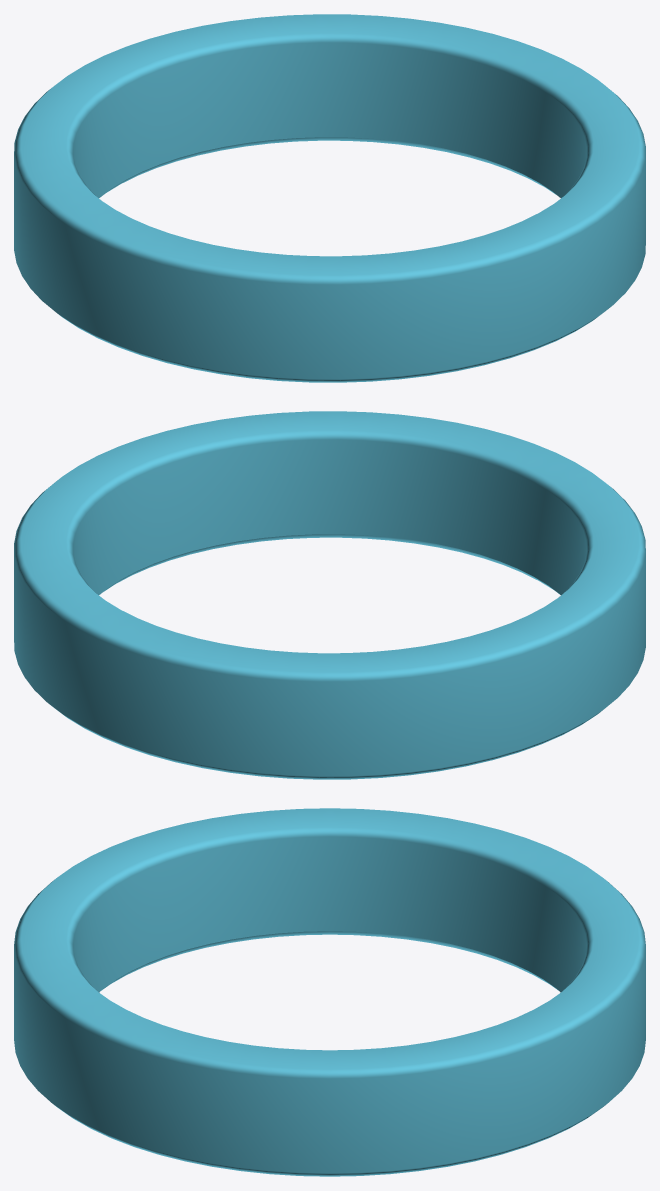
3 renders of one model, top to bottom at view 1: azimuth 30°, elevation 25°; view 2: azimuth 150°, elevation 25°; view 3: azimuth 270°, elevation 25°, orthographic.
Parts seen in each view (by area): view 1: seal_body; view 2: seal_body; view 3: seal_body.
Boxes of the visible parts, x1,y1,x2,y2 form: seal_body: (14, 14, 645, 382); seal_body: (14, 411, 645, 779); seal_body: (14, 808, 645, 1176).
Bounding box in the file's own units: 0.0508 × 0.00952 × 0.0508.
